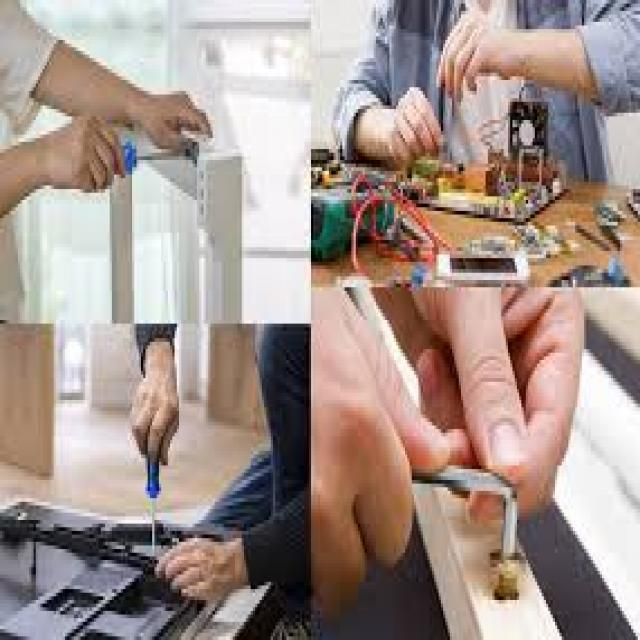screwdriver: (87, 133, 190, 191), (144, 437, 164, 568)
